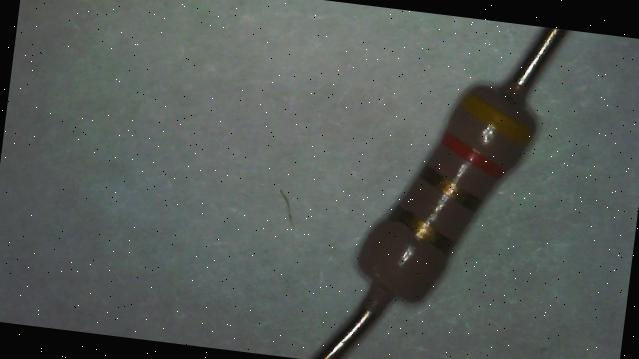gold: (387, 206, 456, 250), (418, 165, 483, 209)
orange: (438, 131, 507, 177)
resistor: (326, 56, 572, 323)
yellow: (456, 92, 536, 146)
